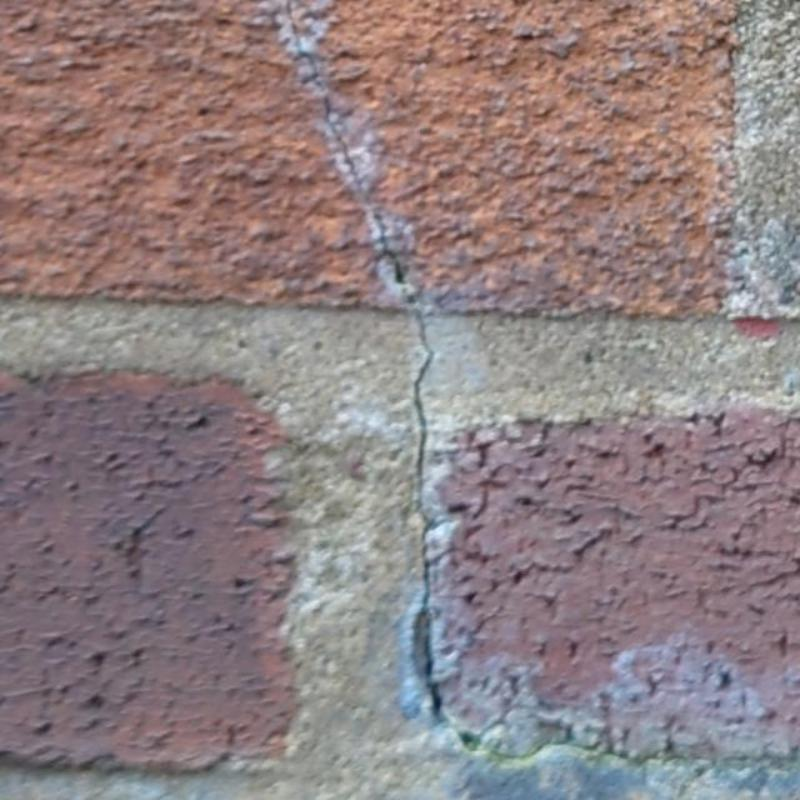pothole: (278, 0, 502, 773)
